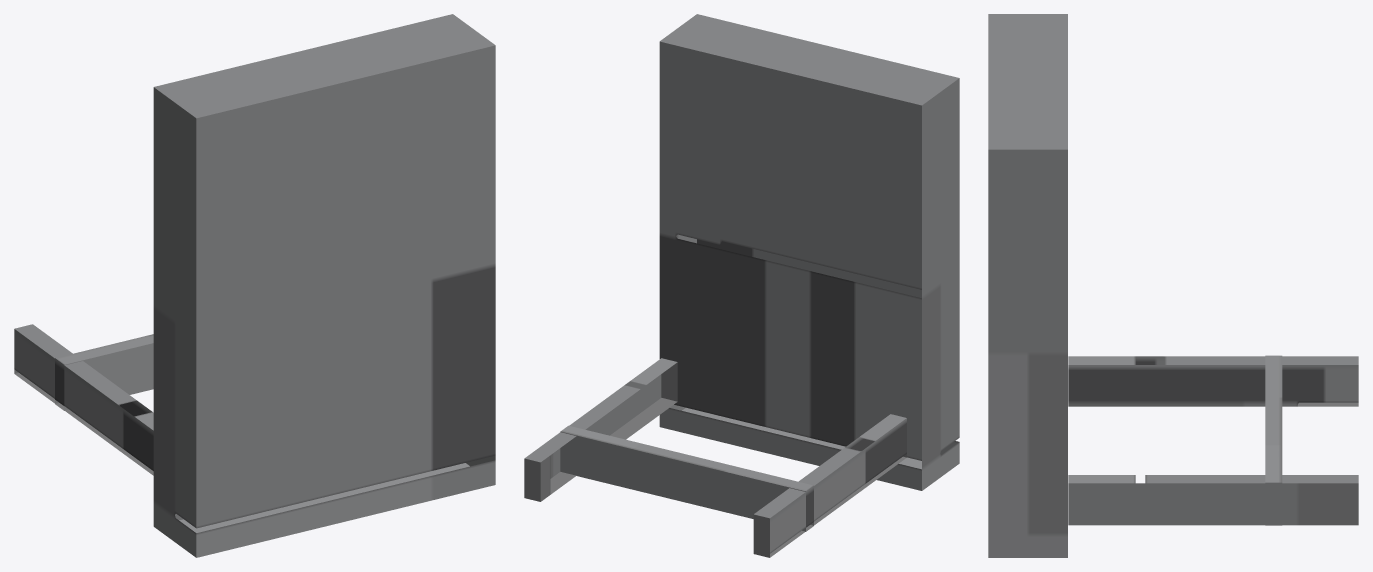
The picture shows the model from 3 angles, left to right: view 1: azimuth 30°, elevation 25°; view 2: azimuth 150°, elevation 25°; view 3: azimuth 270°, elevation 25°; orthographic projection. The views are drawn at different scales.
Size of the model in its own units: 0.7318 by 1.03 by 0.8438.
